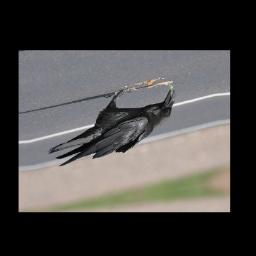Crow: (39, 81, 185, 168)
